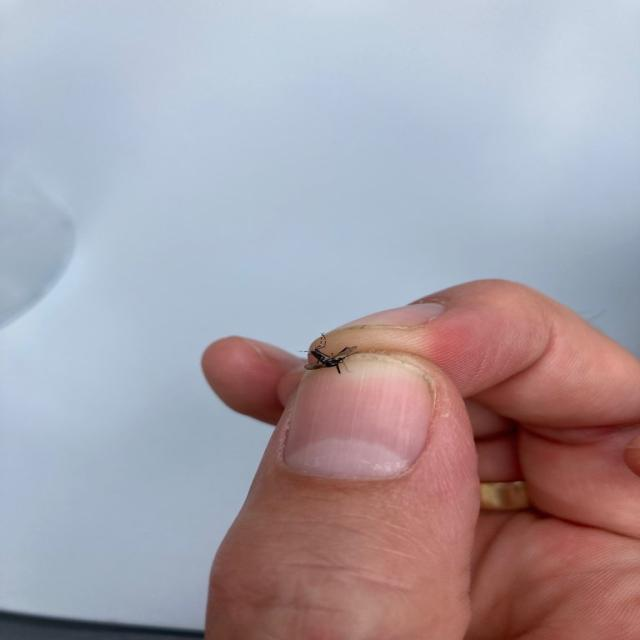albopictus: (282, 328, 368, 387)
